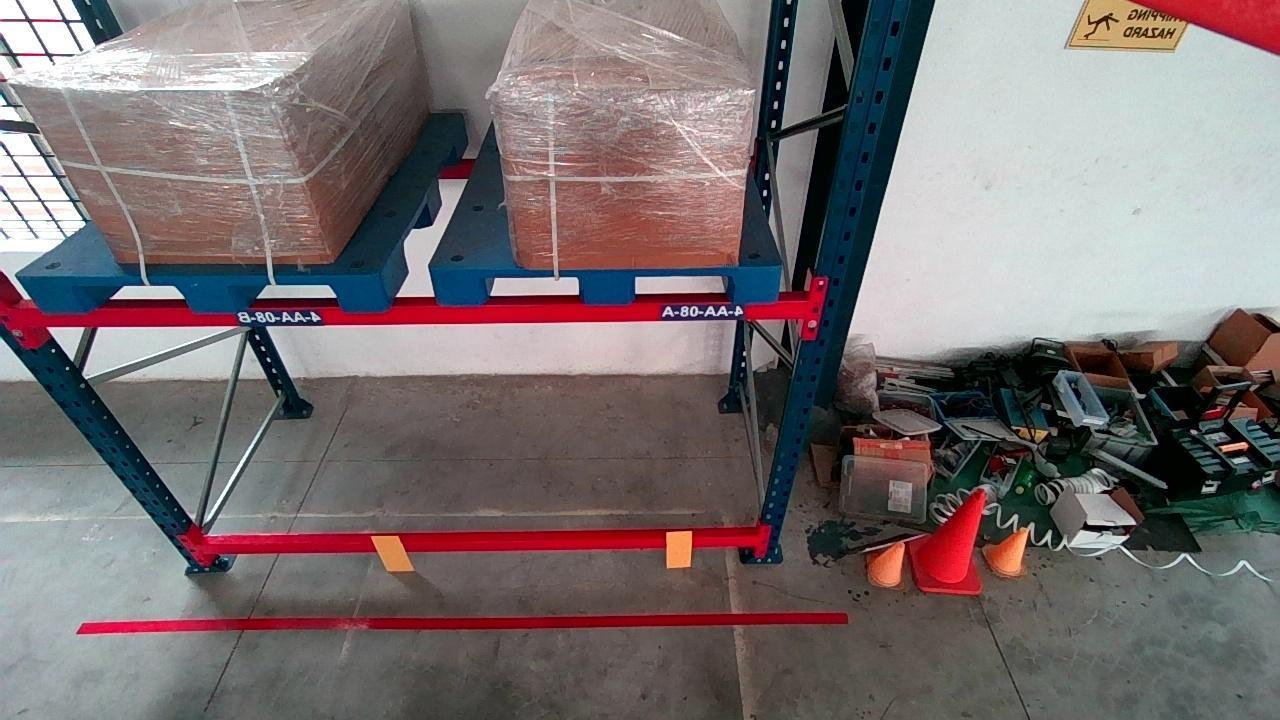h_rack: (7, 301, 810, 327), (199, 527, 755, 554)
orange_strip: (373, 534, 414, 570), (665, 528, 695, 567)
red_line: (78, 611, 847, 633)
small_pallet: (37, 272, 384, 313), (444, 266, 782, 305)
